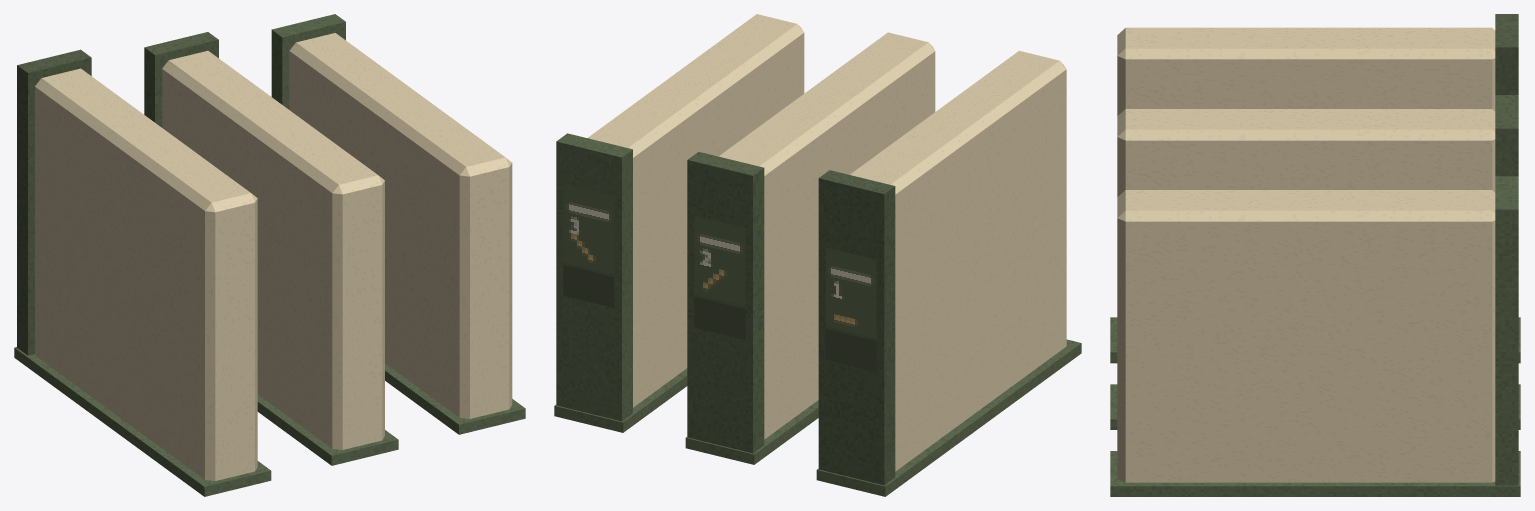
File: textbook_arthropod.glb
3 views of the same model, side by side, from view 1: azimuth 30°, elevation 25°; view 2: azimuth 150°, elevation 25°; view 3: azimuth 270°, elevation 25° (orthographic). The views are drawn at different scales.
Visible parts, largest first — view 1: block_bound volume page block (×3), block_clothbound spine (×3), block_book boards (×3); view 2: block_bound volume page block (×3), block_clothbound spine (×3), block_numbered spine (×3), block_book boards (×3); view 3: block_bound volume page block (×3), block_clothbound spine (×3), block_book boards (×3).
Boxes of the visible parts, bbox=[...] form: block_bound volume page block (×3): bbox=[35, 33, 512, 480]; block_clothbound spine (×3): bbox=[17, 14, 345, 355]; block_book boards (×3): bbox=[14, 347, 525, 496]; block_bound volume page block (×3): bbox=[587, 14, 1066, 471]; block_clothbound spine (×3): bbox=[556, 133, 895, 485]; block_numbered spine (×3): bbox=[563, 183, 876, 371]; block_book boards (×3): bbox=[554, 339, 1081, 496]; block_bound volume page block (×3): bbox=[1117, 27, 1495, 482]; block_clothbound spine (×3): bbox=[1495, 14, 1518, 485]; block_book boards (×3): bbox=[1110, 317, 1520, 496].
Size of the model in its own units: 0.3411 by 0.2969 by 0.35.
Materials: 1 (1 with a texture image).
